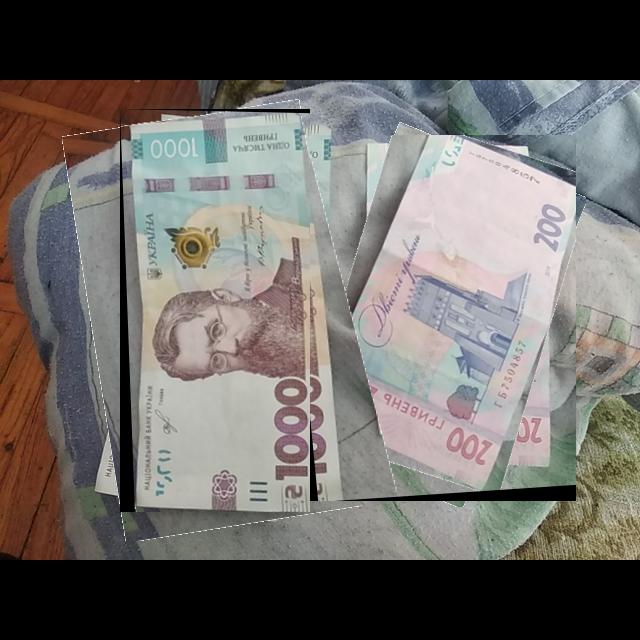1000uah: (128, 113, 311, 513)
200uah: (304, 135, 577, 494)
